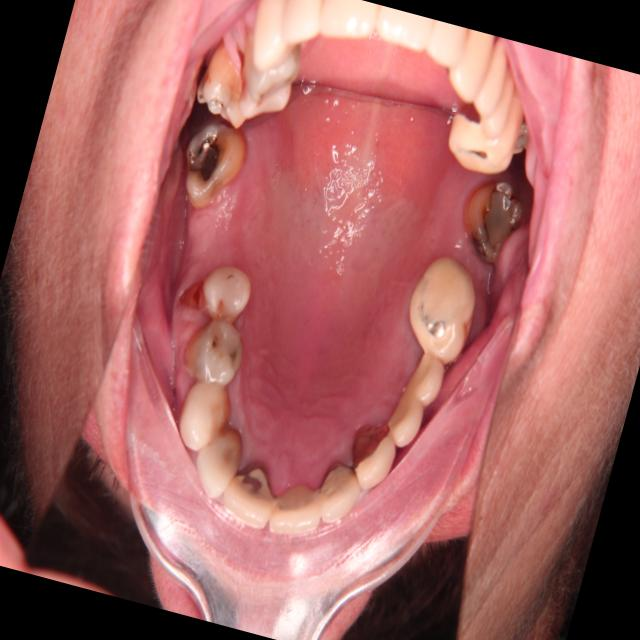tooth: (385, 236, 495, 382), (160, 353, 255, 474), (167, 114, 261, 221), (207, 439, 294, 544), (450, 173, 533, 279), (183, 408, 262, 513), (299, 449, 379, 547), (185, 250, 271, 340), (335, 413, 414, 510), (176, 308, 259, 400), (254, 465, 337, 554), (375, 384, 436, 457), (396, 347, 456, 413)
